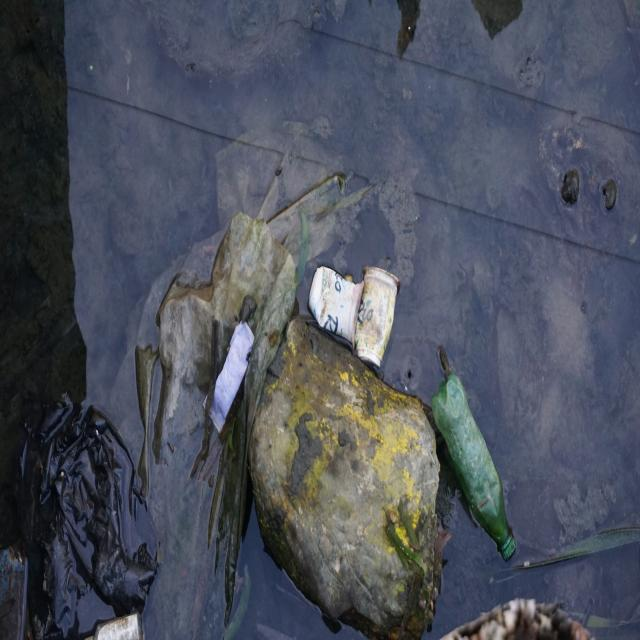Botol Plastik: (430, 372, 523, 564)
Bungkus Minuman: (308, 260, 365, 352), (359, 265, 401, 376)
Kantong Plastik: (134, 212, 298, 637), (13, 406, 161, 635)
